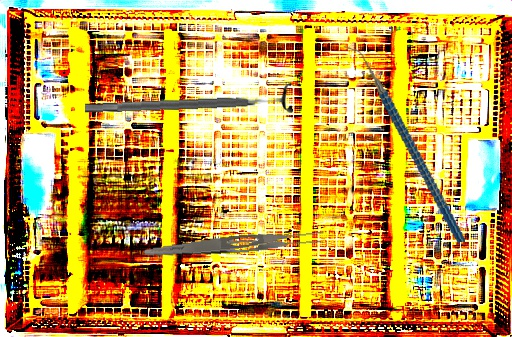Chopper: (342, 32, 466, 256)
Dressing Forceps: (143, 226, 326, 265)
Fixation Ring: (84, 80, 293, 125)
